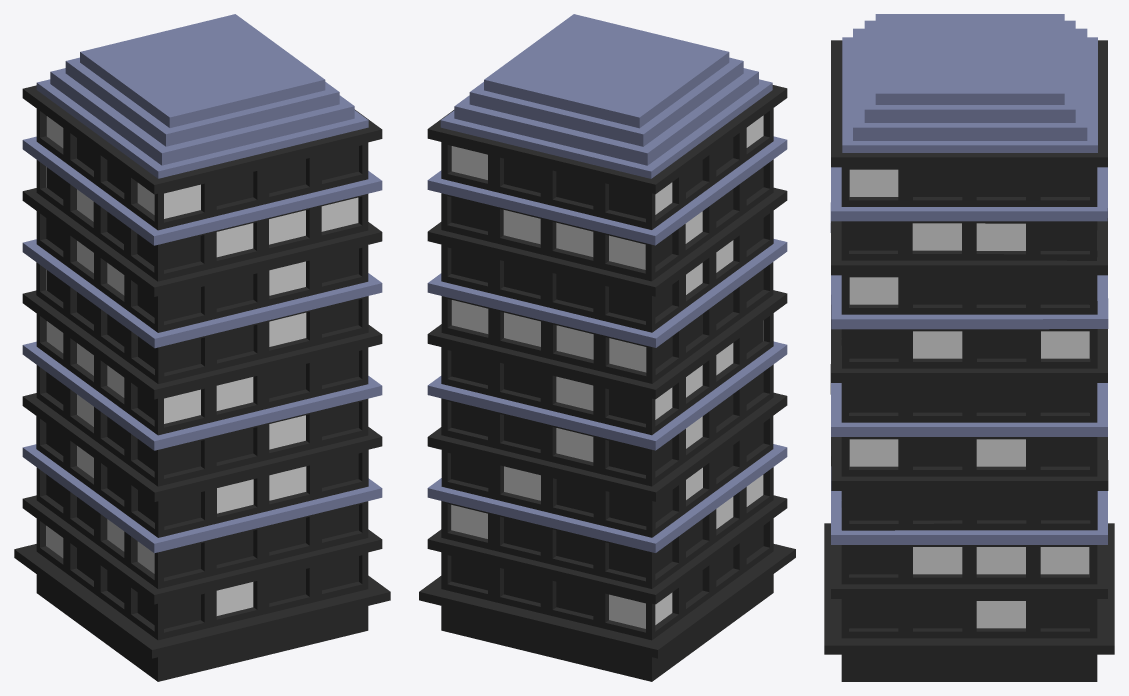
File: skyscrapper.fbx
The picture shows the model from 3 angles, left to right: view 1: azimuth 30°, elevation 25°; view 2: azimuth 150°, elevation 25°; view 3: azimuth 270°, elevation 25°; orthographic projection. The views are drawn at different scales.
Visible parts, largest first — view 1: Plane; view 2: Plane; view 3: Plane.
Boxes of the visible parts, x1,y1,x2,y2 form: Plane: (14,14,390,681); Plane: (419,14,795,681); Plane: (824,14,1114,681).
Bounding box in the file's own units: 227 × 496 × 227.
